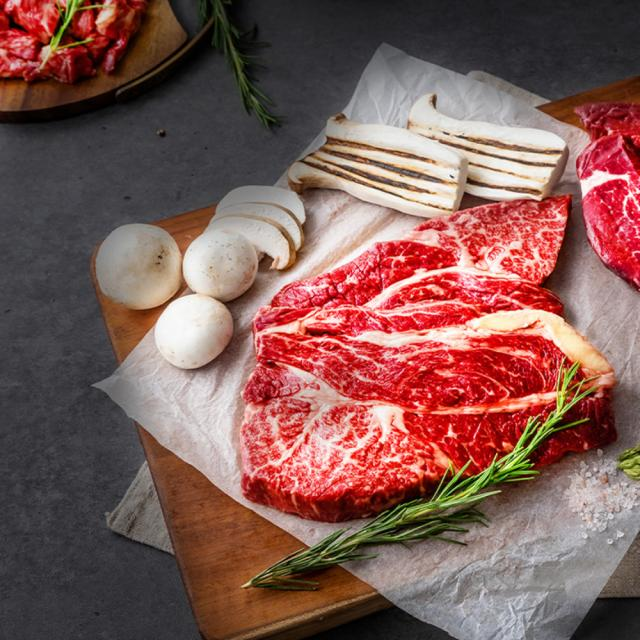beef: (301, 293, 502, 445)
